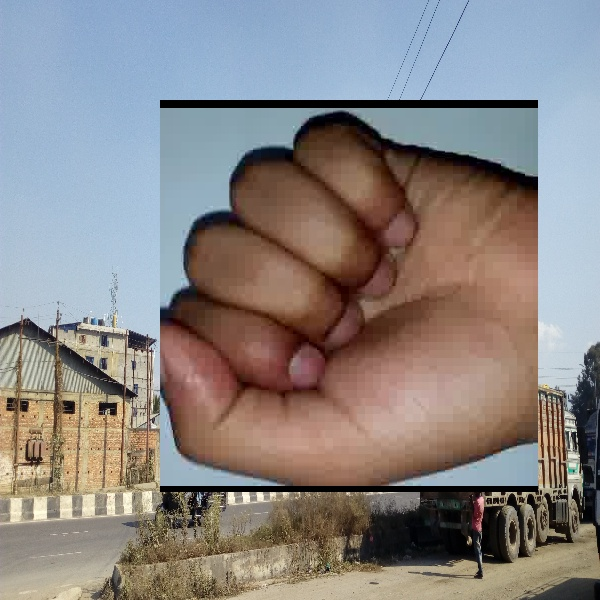A: (160, 100, 538, 492)
